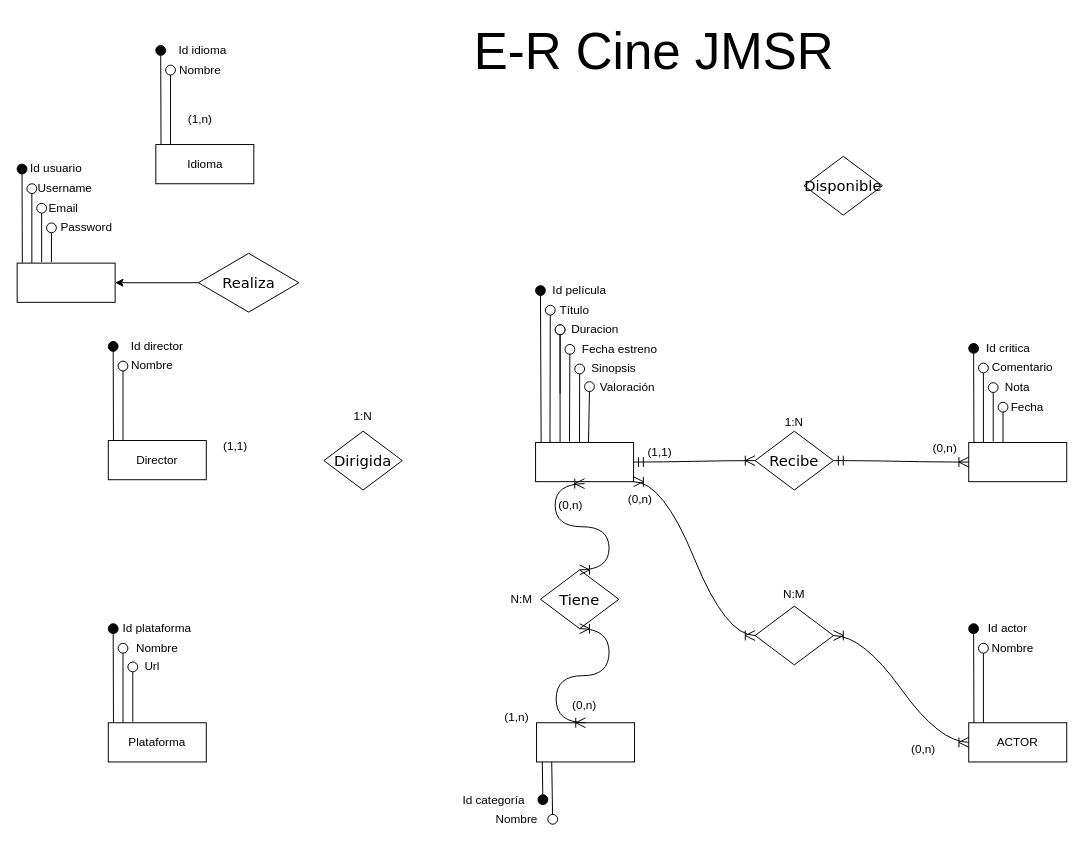
Some shapes in this 1084 by 851 pixel diagram are drawn without their labels. Each missing label, with the centre of its shape:
"Actúa" belongs at point 793,635.
"CATEGORÍA" belongs at point 585,742.
"CRÍTICA" belongs at point 1017,461.
"PELÍCULA" belongs at point 584,461.
"Usuario" belongs at point 65,282.
